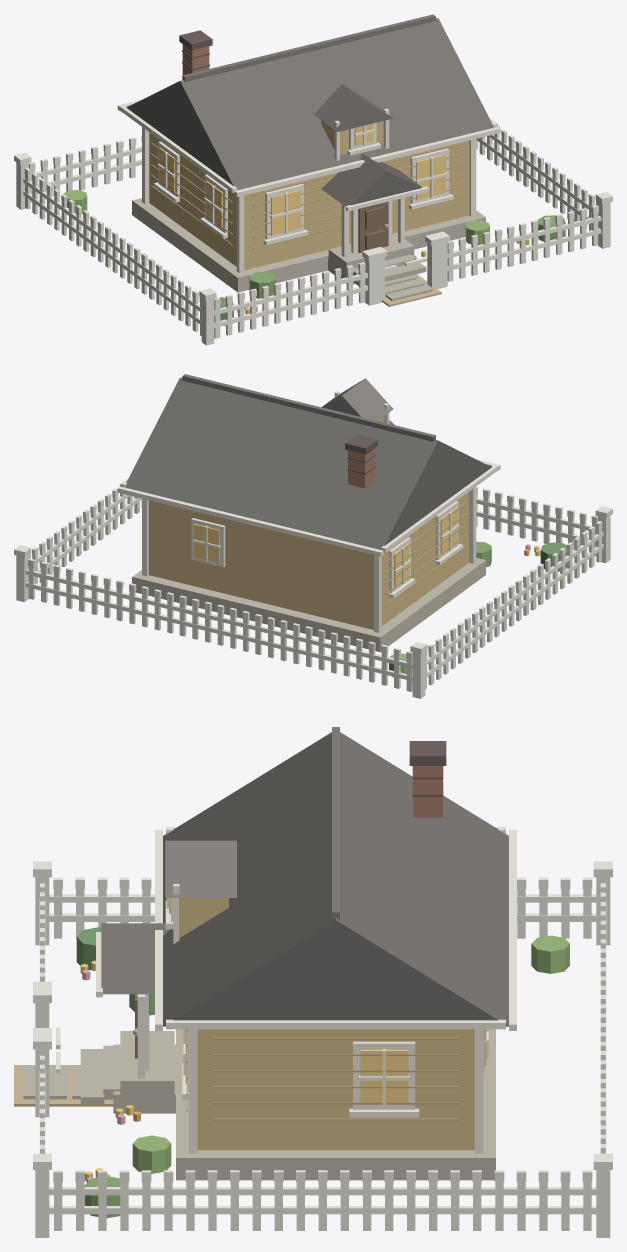
The model's file is house_1.glb.
The picture shows the model from 3 angles, top to bottom: view 1: azimuth 30°, elevation 25°; view 2: azimuth 150°, elevation 25°; view 3: azimuth 270°, elevation 25°; orthographic projection. The views are drawn at different scales.
Parts seen in each view (by area): view 1: MainRoof_dark_charcoal_gable, MainWalls_yellow_core, Foundation_main_slab, FrontPorchRoof_small_dark_gable, DormerRoof_dark_gable, MainRoof_ridge_trim, MainRoof_front_eave_trim, FenceLeftSide_rail_upper, FenceLeftSide_rail_lower, FrontPorch_landing, Window_front_left_glass_glow, MainRoof_left_rake_trim (+27 smaller); view 2: MainRoof_dark_charcoal_gable, MainWalls_yellow_core, Foundation_main_slab, FenceBack_rail_lower, FenceBack_rail_upper, MainRoof_ridge_trim, MainRoof_back_eave_trim, DormerRoof_dark_gable, FenceLeftSide_rail_lower, FenceLeftSide_rail_upper, MainRoof_left_rake_trim, Chimney_brick_stack (+14 smaller); view 3: MainRoof_dark_charcoal_gable, MainWalls_yellow_core, Foundation_main_slab, FenceRightSide_rail_upper, FenceRightSide_rail_lower, DormerRoof_dark_gable, FrontPorchRoof_small_dark_gable, MainRoof_right_rake_trim, FrontPorch_landing, Window_right_side_glass_glow, Window_right_side_trim_outer, MainRoof_back_eave_trim (+27 smaller).
Part boxes in pixels (bbox=[...]): MainRoof_dark_charcoal_gable: bbox=[126, 18, 492, 190]; MainWalls_yellow_core: bbox=[149, 132, 469, 270]; Foundation_main_slab: bbox=[132, 198, 485, 292]; FrontPorchRoof_small_dark_gable: bbox=[321, 153, 421, 206]; DormerRoof_dark_gable: bbox=[314, 84, 393, 131]; MainRoof_ridge_trim: bbox=[182, 14, 435, 81]; MainRoof_front_eave_trim: bbox=[234, 127, 500, 196]; FenceLeftSide_rail_upper: bbox=[23, 178, 201, 312]; FenceLeftSide_rail_lower: bbox=[23, 191, 201, 325]; FrontPorch_landing: bbox=[328, 233, 414, 270]; Window_front_left_glass_glow: bbox=[271, 190, 300, 235]; MainRoof_left_rake_trim: bbox=[120, 105, 237, 192]; MainRoof_dark_charcoal_gable: bbox=[125, 377, 491, 549]; MainWalls_yellow_core: bbox=[148, 492, 468, 629]; Foundation_main_slab: bbox=[132, 558, 485, 652]; FenceBack_rail_lower: bbox=[25, 581, 412, 681]; FenceBack_rail_upper: bbox=[25, 569, 412, 668]; MainRoof_ridge_trim: bbox=[182, 374, 435, 441]; MainRoof_back_eave_trim: bbox=[117, 486, 383, 556]; DormerRoof_dark_gable: bbox=[322, 378, 393, 420]; FenceLeftSide_rail_lower: bbox=[425, 544, 603, 678]; FenceLeftSide_rail_upper: bbox=[425, 531, 603, 665]; MainRoof_left_rake_trim: bbox=[381, 465, 497, 552]; Chimney_brick_stack: bbox=[348, 448, 374, 488]; MainRoof_dark_charcoal_gable: bbox=[163, 732, 508, 1026]; MainWalls_yellow_core: bbox=[197, 1029, 474, 1150]; Foundation_main_slab: bbox=[176, 1029, 495, 1180]; FenceRightSide_rail_upper: bbox=[49, 1187, 596, 1195]; FenceRightSide_rail_lower: bbox=[49, 1206, 596, 1214]; DormerRoof_dark_gable: bbox=[165, 840, 236, 897]; FrontPorchRoof_small_dark_gable: bbox=[101, 923, 169, 994]; MainRoof_right_rake_trim: bbox=[166, 1019, 505, 1029]; FrontPorch_landing: bbox=[120, 1031, 174, 1097]; Window_right_side_glass_glow: bbox=[360, 1050, 408, 1104]; Window_right_side_trim_outer: bbox=[353, 1041, 415, 1109]; MainRoof_back_eave_trim: bbox=[509, 830, 516, 1030].
Bounding box in the file's own units: 8.12 × 3.51 × 6.84.
